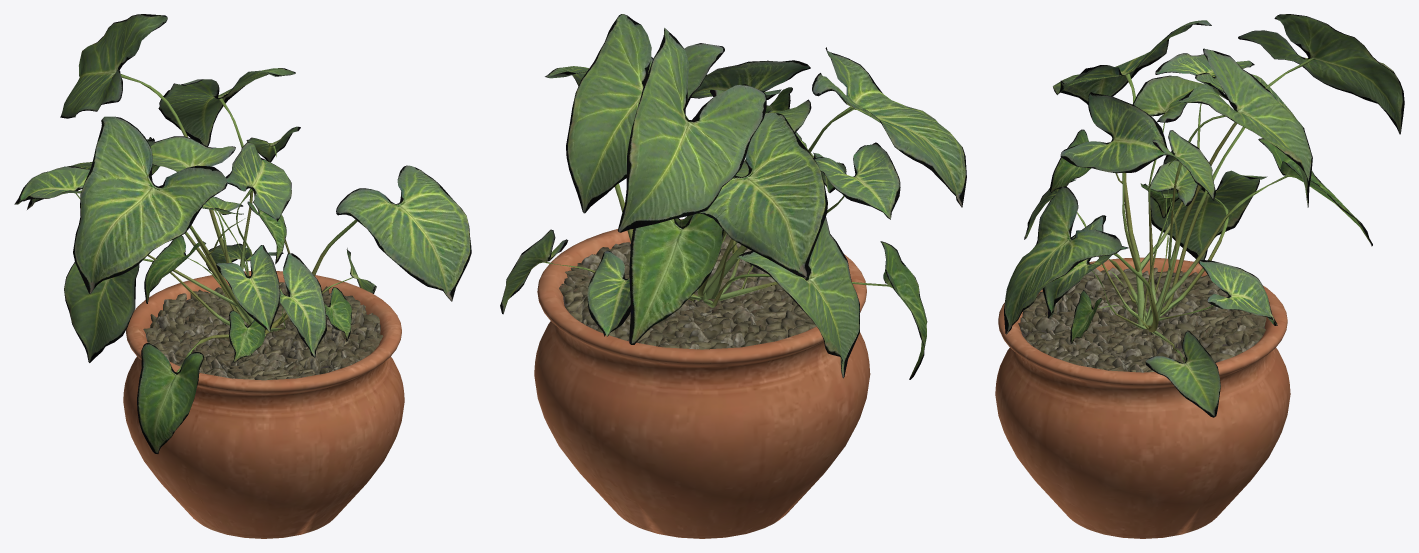
Rendered from potted_plant_02.glb.
The picture shows the model from 3 angles, left to right: view 1: azimuth 30°, elevation 25°; view 2: azimuth 150°, elevation 25°; view 3: azimuth 270°, elevation 25°; orthographic projection. The views are drawn at different scales.
Parts seen in each view (by area): view 1: potted_plant_02_leaves, potted_plant_02_pot; view 2: potted_plant_02_leaves, potted_plant_02_pot; view 3: potted_plant_02_pot, potted_plant_02_leaves.
Boxes of the visible parts, box(x1,y1,x2,y2) form: potted_plant_02_leaves: box(14, 14, 471, 453); potted_plant_02_pot: box(123, 271, 404, 538); potted_plant_02_leaves: box(500, 14, 966, 379); potted_plant_02_pot: box(534, 219, 870, 538); potted_plant_02_pot: box(995, 257, 1290, 538); potted_plant_02_leaves: box(1004, 14, 1404, 417).
Bounding box in the file's own units: 0.7009 × 0.8412 × 0.6574.
Materials: 2 (2 with a texture image).
